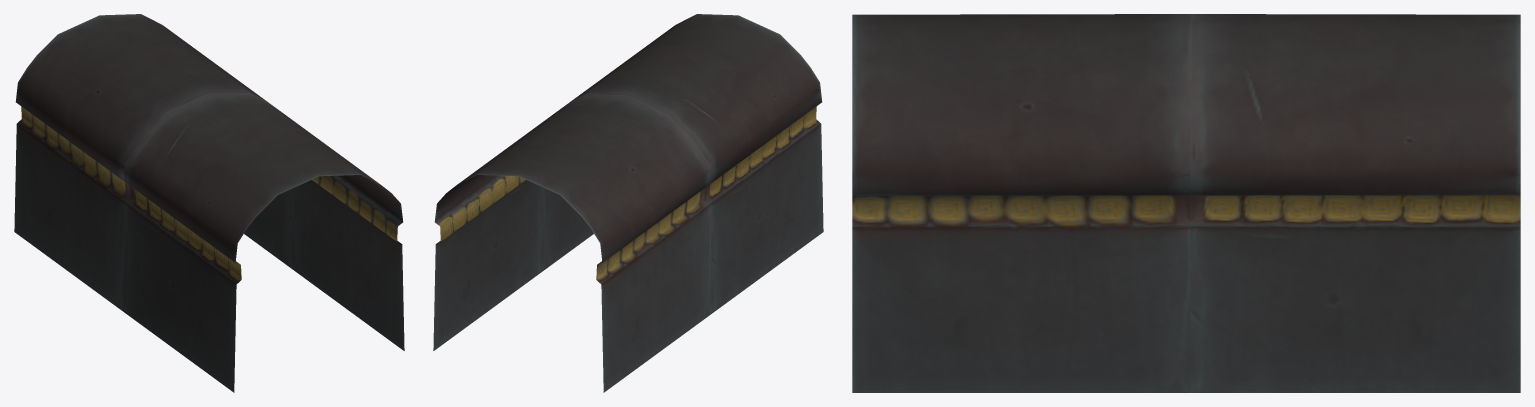
File: MouseHole_Corridor_Low.fbx
3 renders of one model, left to right at view 1: azimuth 30°, elevation 25°; view 2: azimuth 150°, elevation 25°; view 3: azimuth 270°, elevation 25°, orthographic. The views are drawn at different scales.
Visible parts, largest first — view 1: MouseHole_Corridor_Low; view 2: MouseHole_Corridor_Low; view 3: MouseHole_Corridor_Low.
Part boxes in pixels (<box>): MouseHole_Corridor_Low: <box>14,14,404,392</box>; MouseHole_Corridor_Low: <box>433,14,823,392</box>; MouseHole_Corridor_Low: <box>852,14,1520,392</box>.
Size of the model in its own units: 101 by 111 by 225.
